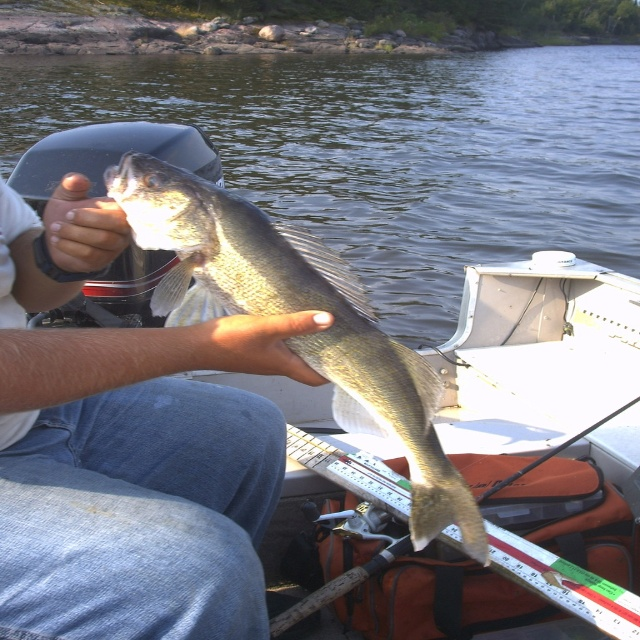Fish: (103, 149, 492, 567)
